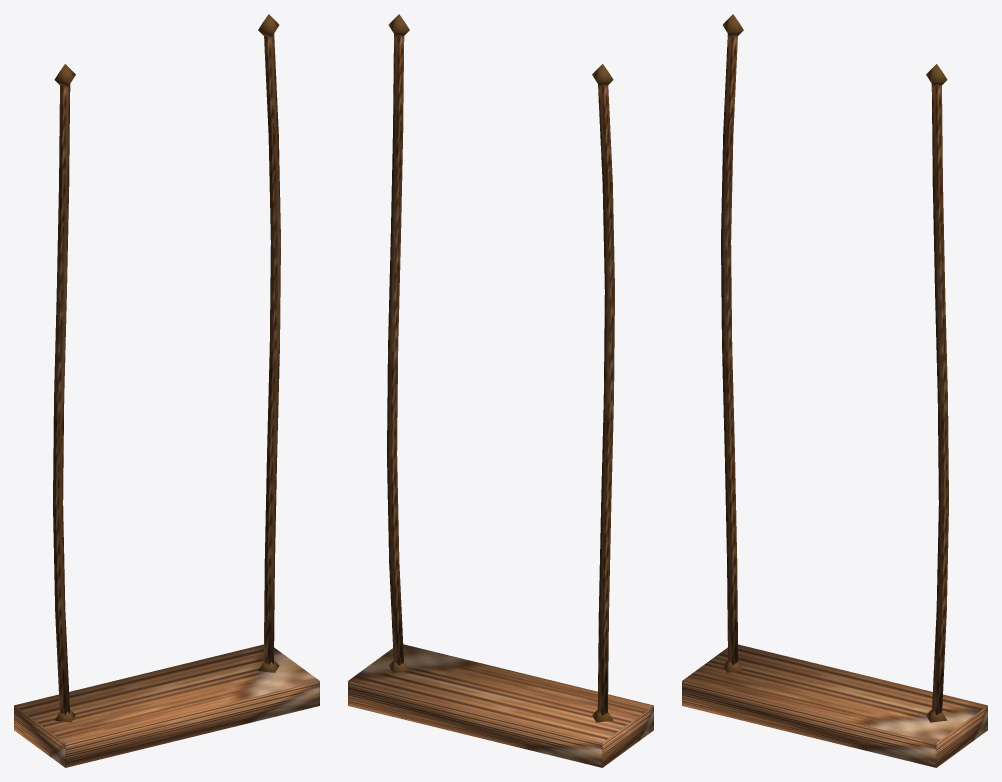
Rendered from toad-prop-swing.glb.
3 views of the same model, side by side, from view 1: azimuth 30°, elevation 25°; view 2: azimuth 150°, elevation 25°; view 3: azimuth 330°, elevation 25° (orthographic).
Visible parts, largest first — view 1: swing; view 2: swing; view 3: swing.
Boxes of the visible parts, x1,y1,x2,y2 form: swing: (14,14,319,767); swing: (348,14,653,767); swing: (682,14,987,767).
Bounding box in the file's own units: 0.08 × 0.2041 × 0.028.
1 material, 1 textured.
